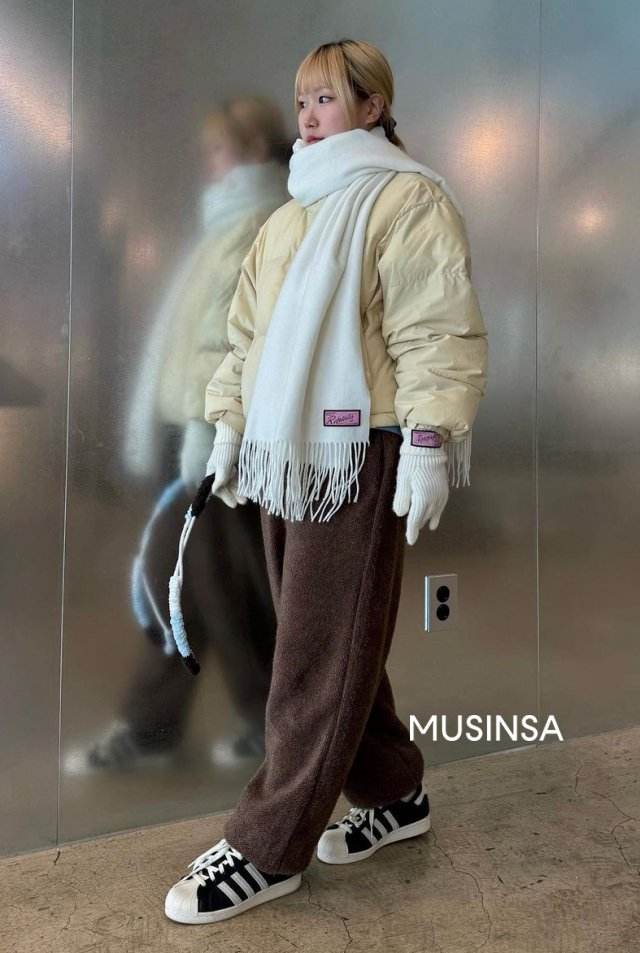Muffler: (280, 135, 381, 495)
Pants: (218, 443, 416, 843)
Shoes: (158, 779, 439, 932)
Top: (223, 177, 490, 451)
